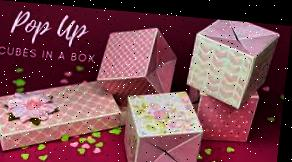cube: (186, 14, 281, 107), (96, 20, 182, 100), (122, 84, 208, 162)
